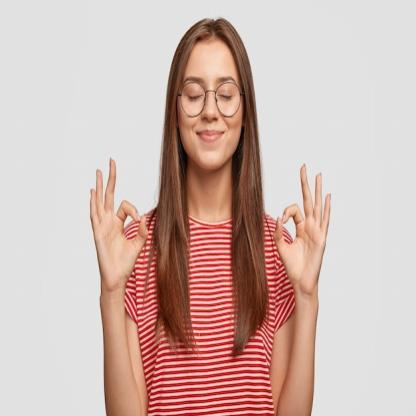ok: (86, 155, 150, 290), (271, 159, 332, 294)
